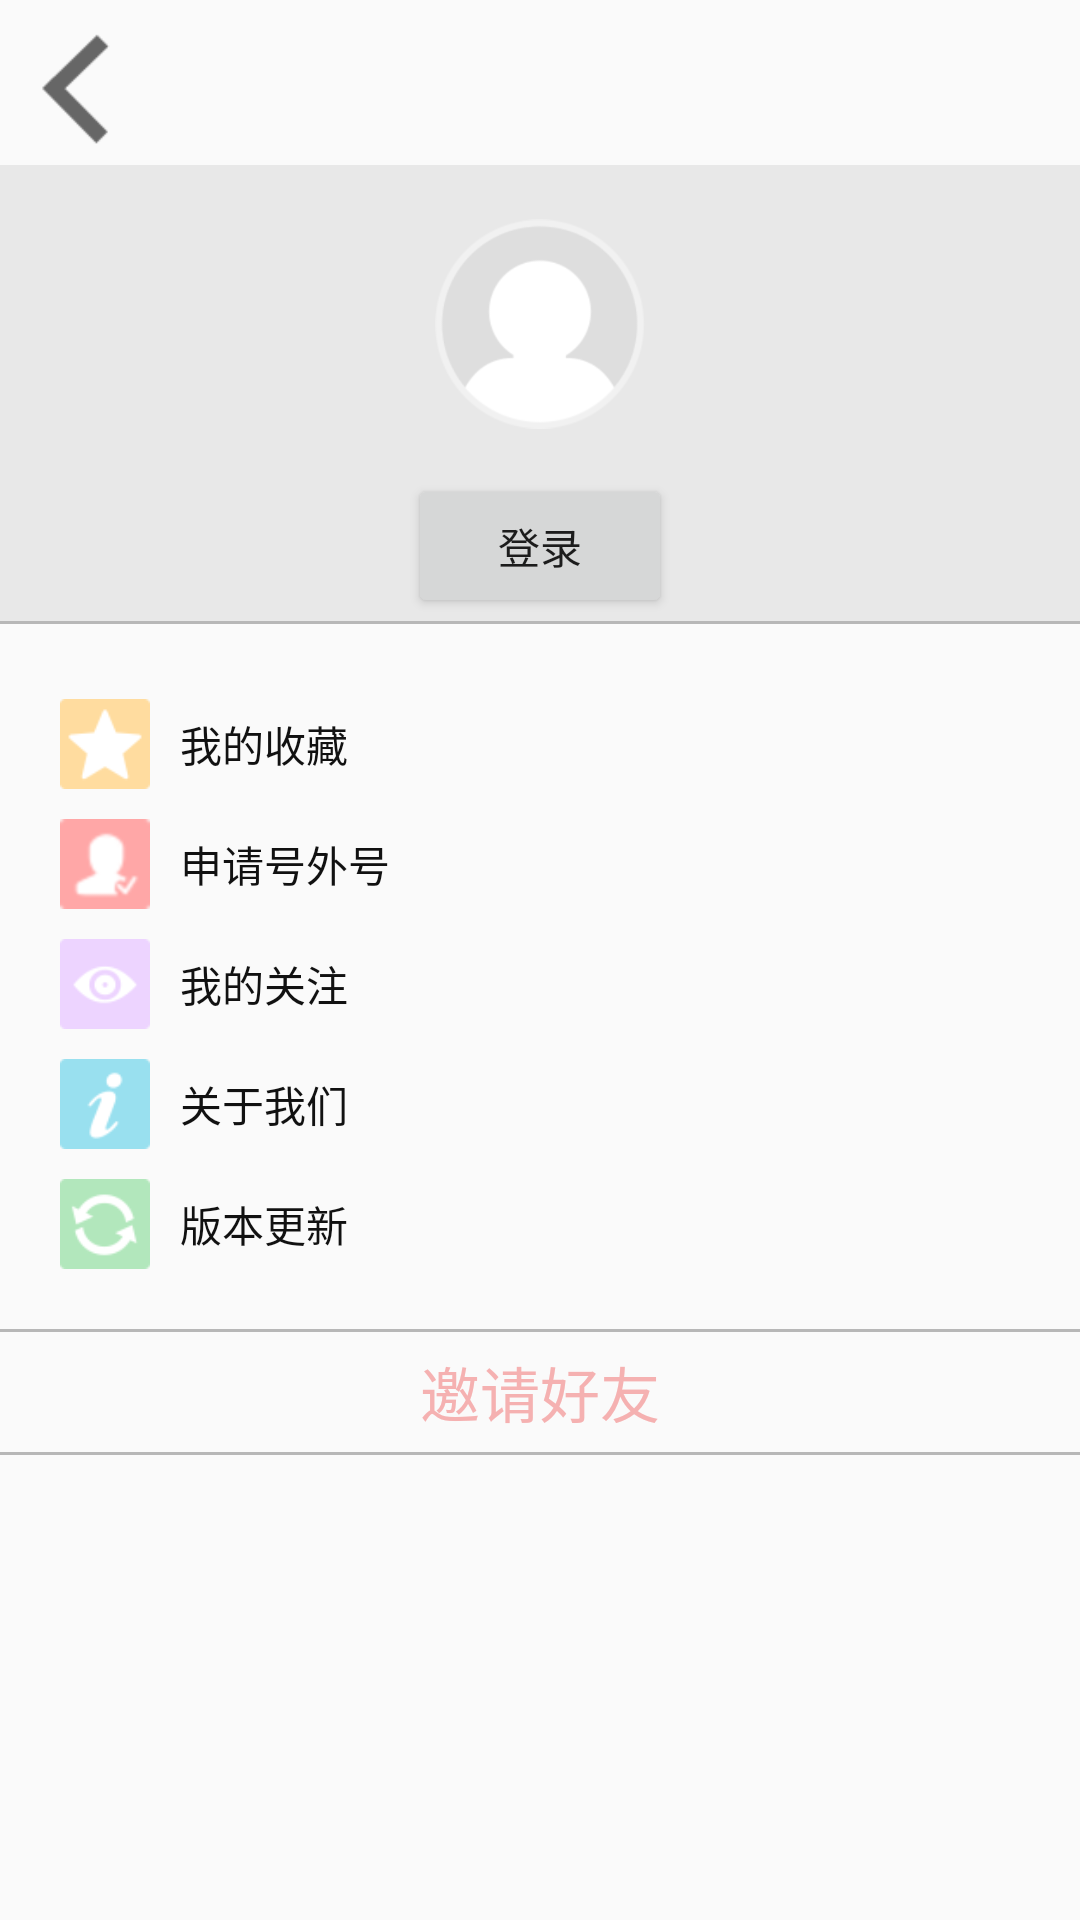

Locate icon controls on the screen. Image size 1080x1920, boxes as (left=x1, top=y1, right=x2, bottom=y2).
about: (left=60, top=1059, right=150, bottom=1149)
back: (left=42, top=35, right=108, bottom=144)
collection: (left=60, top=699, right=150, bottom=789)
shenqing haiwai: (left=60, top=819, right=150, bottom=909)
update: (left=60, top=1179, right=150, bottom=1269)
wodeguanzhu: (left=60, top=939, right=150, bottom=1029)
